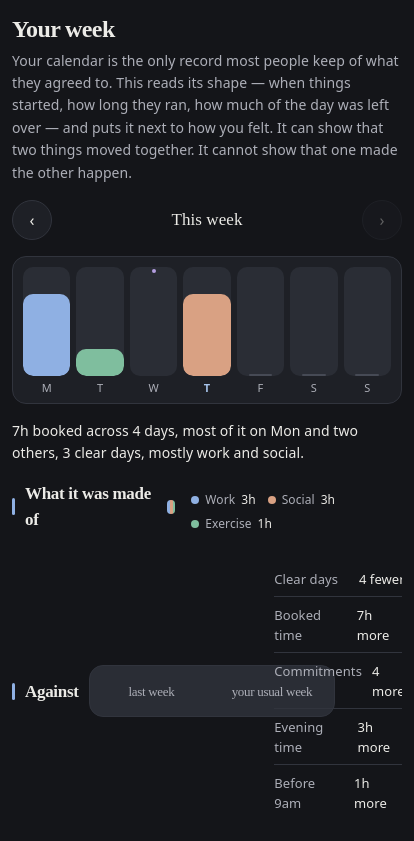
Test case: what titles do and do not reach the screen › shows them when the person has switched them on
What coordinates should you click on to do the following:
click the button named "Mon: 3h"
I would click on:
 (47, 330)
Its box is [23, 267, 70, 393].
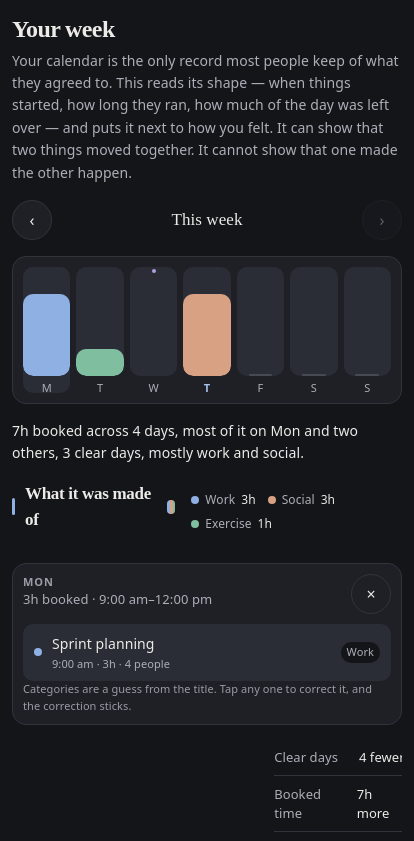
Result: the text "Sprint planning" is shown at [52, 634, 154, 653]
